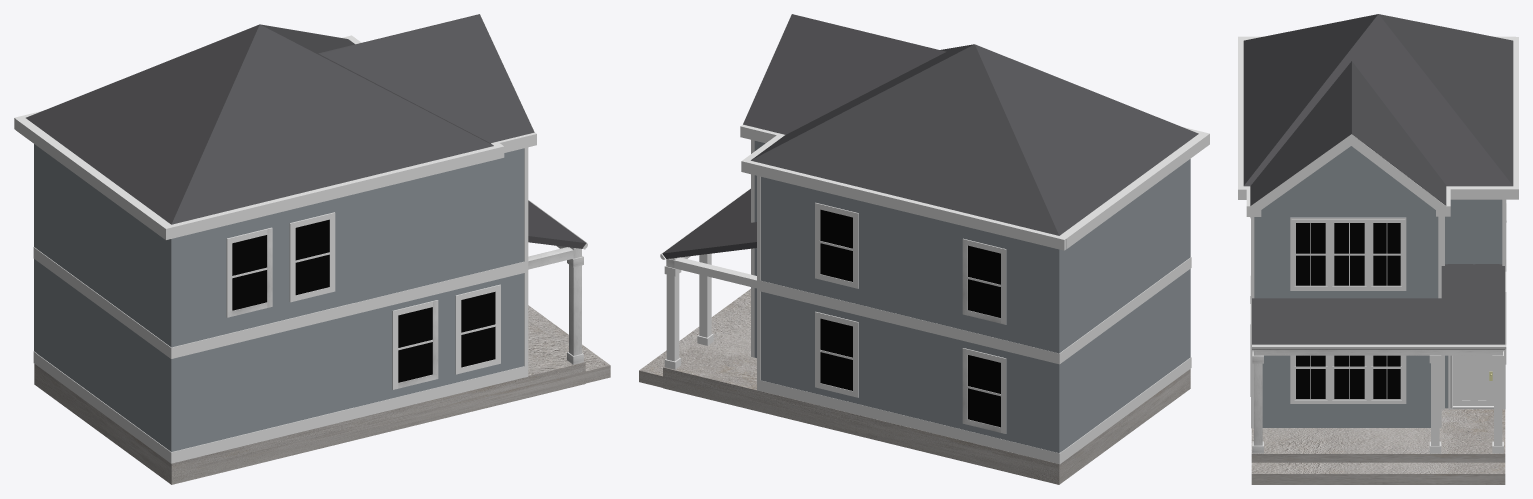
The model's file is American_House_1768722629512.glb.
3 renders of one model, left to right at view 1: azimuth 30°, elevation 25°; view 2: azimuth 150°, elevation 25°; view 3: azimuth 270°, elevation 25°, orthographic. The views are drawn at different scales.
Parts seen in each view (by area): view 1: Cube_1_5, Pyramid, Cube_2_6, Cube_17_2, Cube_5_6, Cube_48, Cube_24_2, Cube_52, Cube_58, Cube_56, Cube_53, Cube_51 (+7 smaller); view 2: Cube_1_5, Pyramid, Cube_5_6, Cube_16_2, Cube_22_2, Cube_48, Cube_47, Cube_29_2, Cube_5_5, Cube_56, Cube_61, Cube_59 (+9 smaller); view 3: Pyramid, Cube_2_6, Cube_5_5, Cube_5_6, Cube_48, Cube_4_6, Cylinder_2_2, Cube_17_2, Cube_16_2, Cube_3_6, Cube_1_5, Cube_14_4 (+24 smaller).
Part boxes in pixels (x1,y1,x2,y2): Cube_1_5: [34, 144, 354, 451]; Pyramid: [26, 24, 493, 224]; Cube_2_6: [354, 148, 524, 407]; Cube_17_2: [320, 15, 534, 143]; Cube_5_6: [34, 320, 585, 484]; Cube_48: [196, 305, 610, 474]; Cube_24_2: [163, 143, 504, 236]; Cube_52: [168, 261, 524, 358]; Cube_58: [168, 366, 524, 463]; Cube_56: [15, 118, 179, 239]; Cube_53: [295, 219, 329, 295]; Cube_51: [398, 307, 432, 382]; Cube_1_5: [761, 159, 1190, 452]; Pyramid: [751, 44, 1198, 235]; Cube_5_6: [663, 303, 1190, 484]; Cube_16_2: [743, 14, 946, 134]; Cube_22_2: [754, 162, 1071, 250]; Cube_48: [639, 289, 1034, 477]; Cube_47: [760, 380, 1061, 463]; Cube_29_2: [760, 280, 1060, 364]; Cube_5_5: [662, 189, 756, 258]; Cube_56: [1064, 132, 1209, 249]; Cube_61: [820, 318, 852, 390]; Cube_59: [968, 245, 1000, 317]; Pyramid: [1243, 14, 1513, 186]; Cube_2_6: [1254, 207, 1438, 427]; Cube_5_5: [1252, 264, 1504, 349]; Cube_5_6: [1251, 408, 1505, 462]; Cube_48: [1251, 462, 1505, 484]; Cube_4_6: [1296, 223, 1400, 285]; Cylinder_2_2: [1266, 147, 1431, 206]; Cube_17_2: [1250, 62, 1350, 205]; Cube_16_2: [1351, 61, 1446, 205]; Cube_3_6: [1296, 355, 1400, 398]; Cube_1_5: [1445, 199, 1499, 408]; Cube_14_4: [1255, 349, 1502, 355].
Size of the model in its own units: 369 by 290 by 215.
7 materials, 2 textured.
